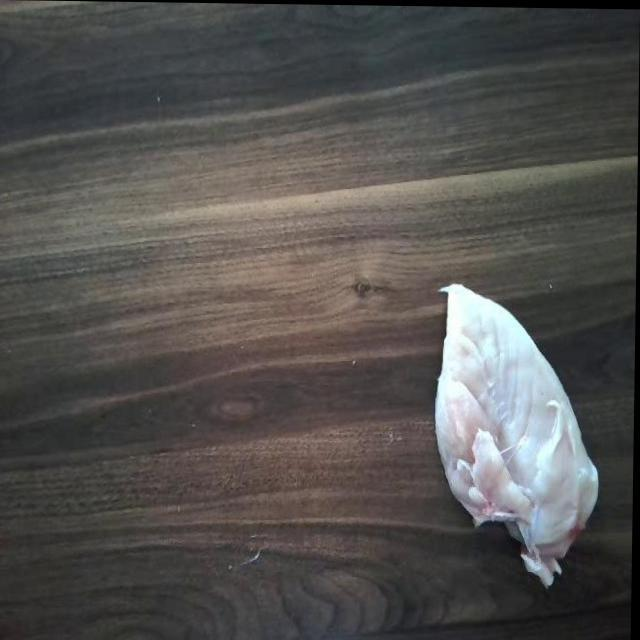breast: (436, 288, 604, 590)
